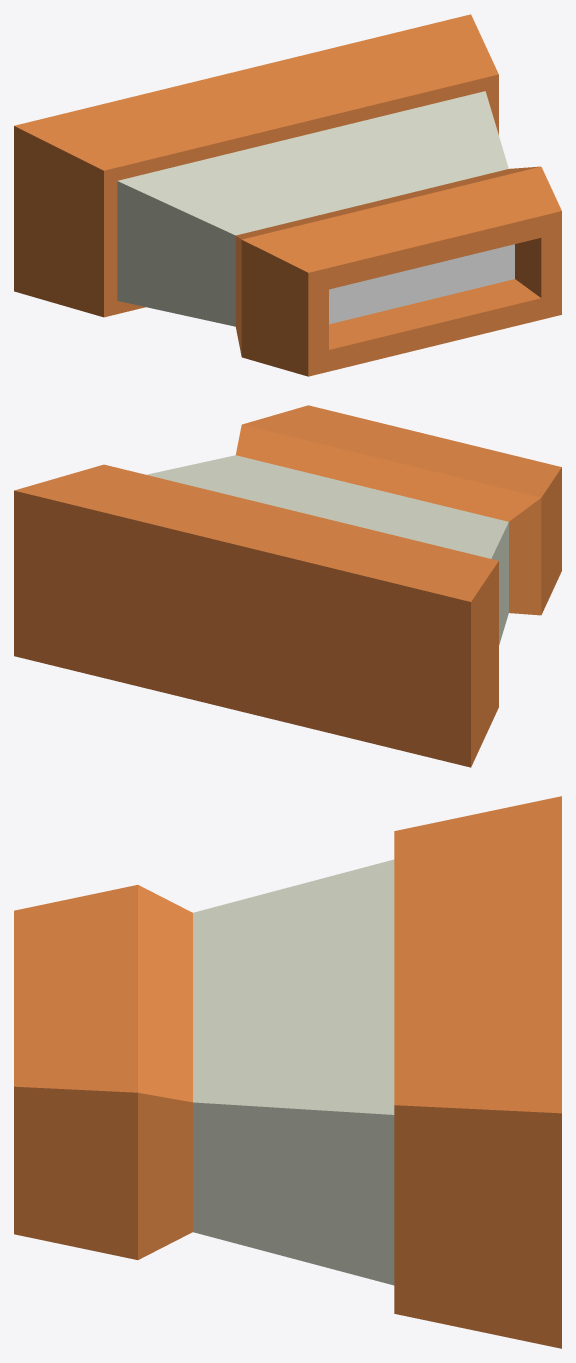
File: blaster1.fbx
The picture shows the model from 3 angles, top to bottom: view 1: azimuth 30°, elevation 25°; view 2: azimuth 150°, elevation 25°; view 3: azimuth 270°, elevation 25°; orthographic projection. The views are drawn at different scales.
Visible parts, largest first — view 1: blaster_1; view 2: blaster_1; view 3: blaster_1.
Part boxes in pixels (box(x1,y1,x2,y2)): blaster_1: box(14, 14, 561, 376); blaster_1: box(14, 405, 561, 767); blaster_1: box(14, 796, 561, 1348).
Size of the model in its own units: 0.1781 by 0.0616 by 0.13.
